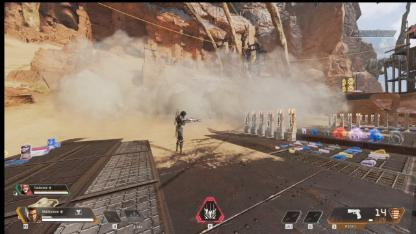Target: (174, 109, 186, 153)
